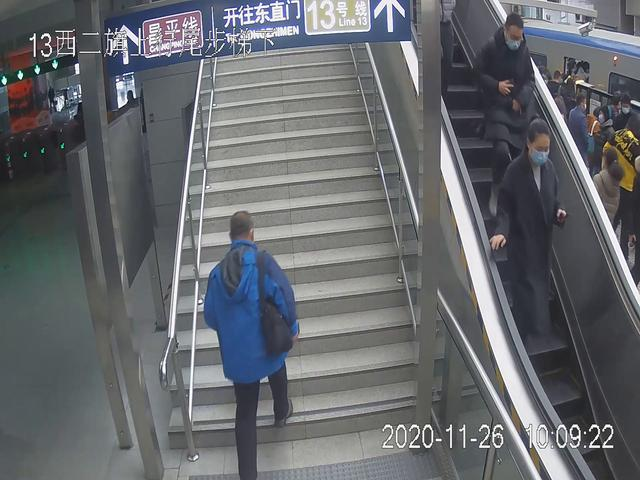person: (201, 209, 301, 480), (484, 114, 570, 357), (471, 10, 538, 218)
